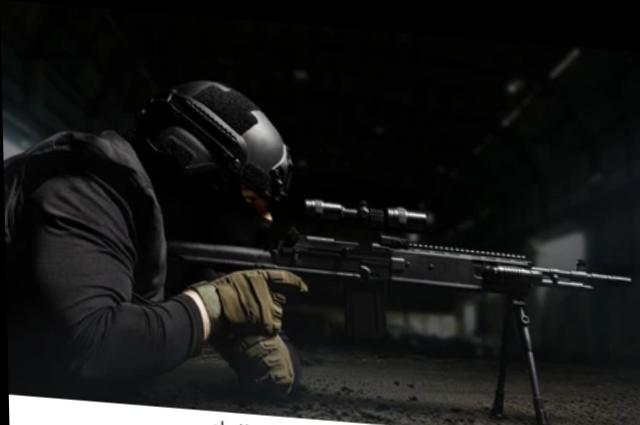other: (7, 56, 298, 410)
